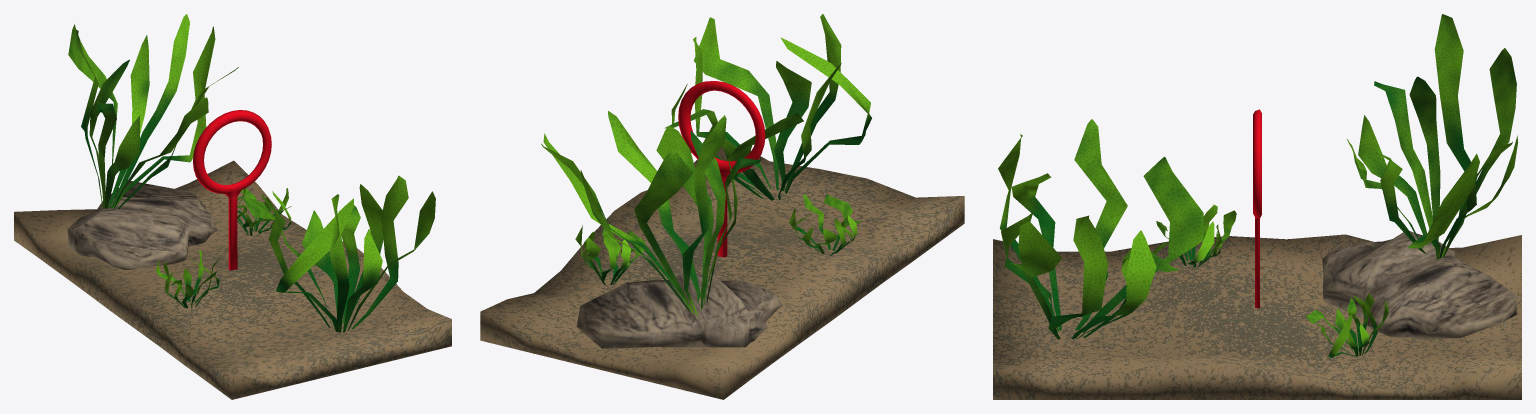
File: AquariumObstacles.glb
3 renders of one model, left to right at view 1: azimuth 30°, elevation 25°; view 2: azimuth 150°, elevation 25°; view 3: azimuth 270°, elevation 25°, orthographic. The views are drawn at different scales.
Visible parts, largest first — view 1: Dirt, Algae2, Algae1, Rock, Loop, Algae3, Algae4; view 2: Dirt, Algae1, Rock, Algae2, Loop, Algae3, Algae4; view 3: Dirt, Algae2, Algae1, Rock, Algae4, Algae3, Loop.
Boxes of the visible parts, x1,y1,x2,y2 form: Dirt: [14, 160, 451, 399]; Algae2: [242, 175, 435, 332]; Algae1: [68, 14, 238, 208]; Rock: [67, 181, 217, 269]; Loop: [193, 110, 271, 270]; Algae3: [156, 250, 219, 308]; Algae4: [237, 187, 291, 235]; Dirt: [480, 146, 964, 399]; Algae1: [541, 111, 760, 316]; Rock: [576, 273, 782, 348]; Algae2: [664, 14, 871, 200]; Loop: [678, 81, 765, 257]; Algae3: [789, 194, 861, 256]; Algae4: [575, 225, 645, 285]; Dirt: [993, 234, 1521, 399]; Algae2: [998, 119, 1203, 339]; Algae1: [1347, 14, 1518, 259]; Rock: [1322, 231, 1516, 338]; Algae4: [1306, 293, 1388, 357]; Algae3: [1156, 204, 1236, 267]; Loop: [1253, 109, 1261, 308].
Size of the model in its own units: 1.98 by 1.94 by 3.4.
5 materials, 4 textured.
